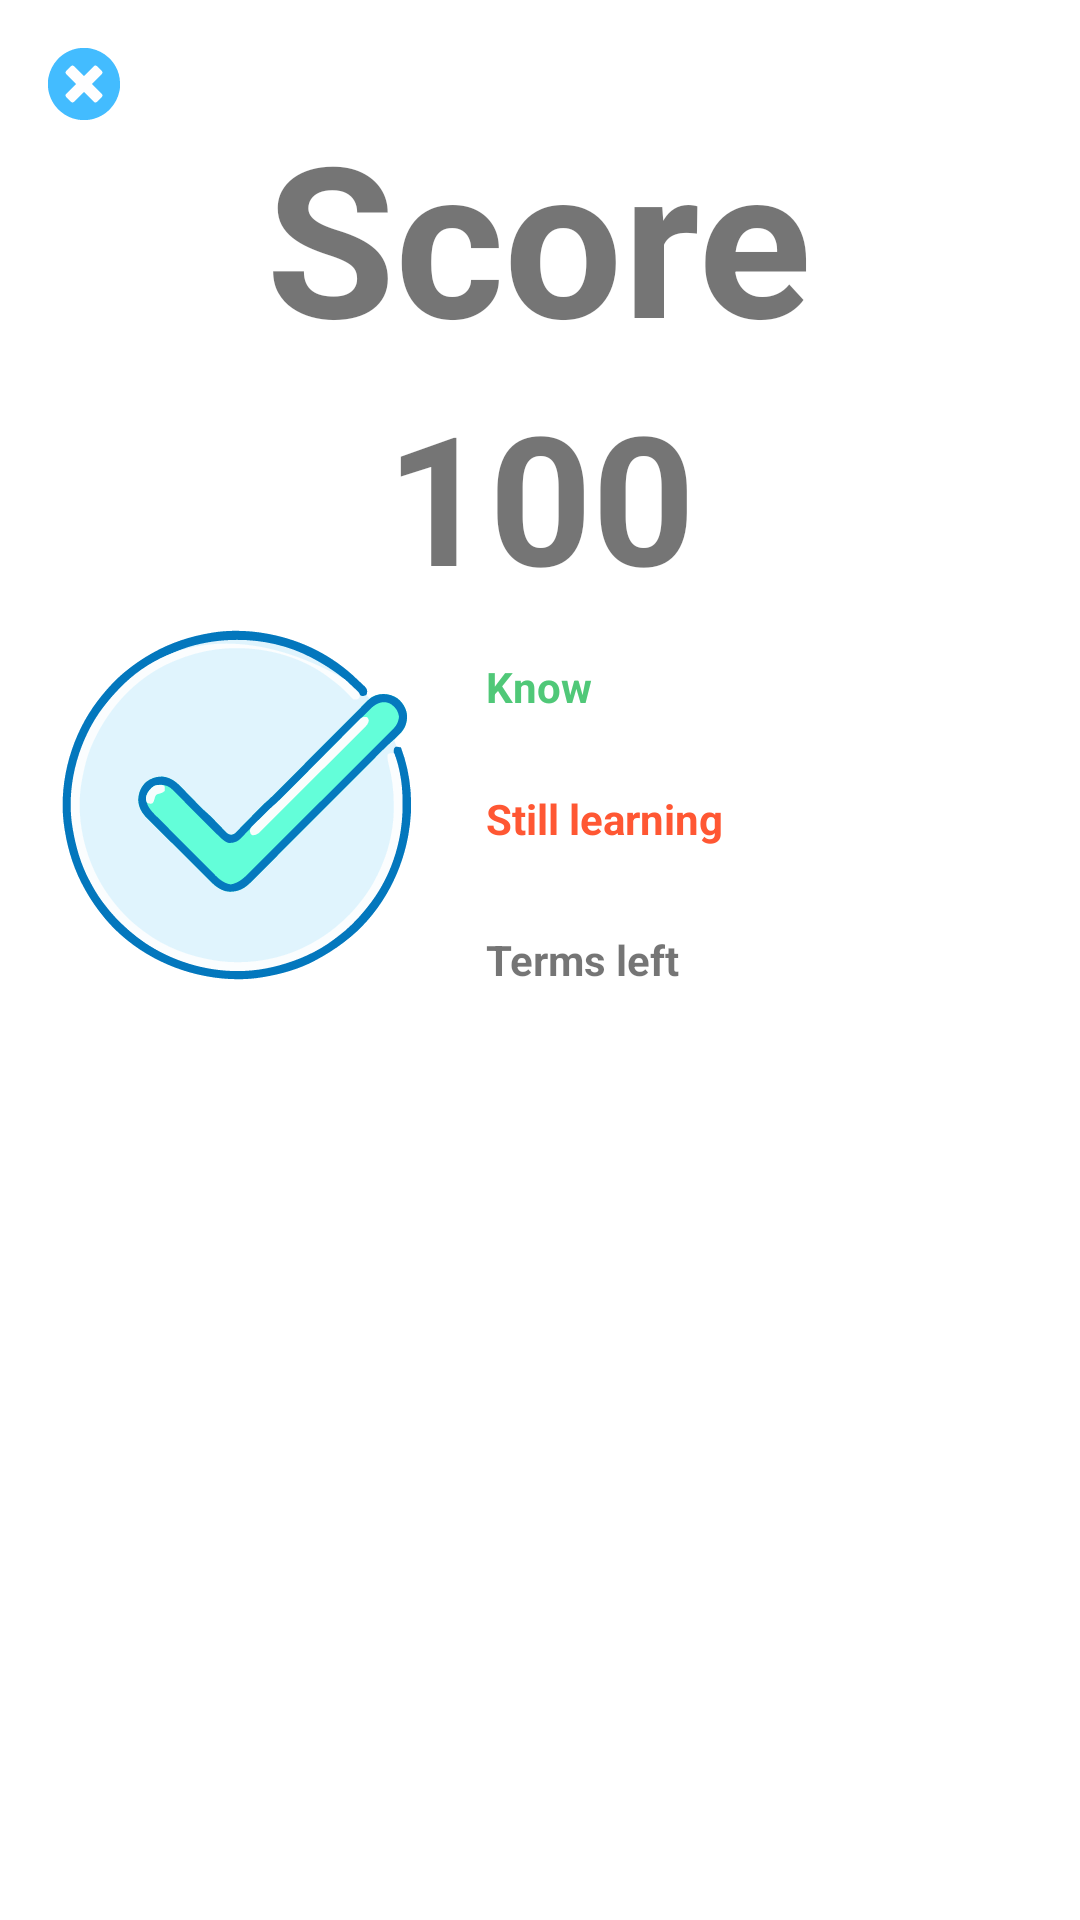

Icons on this 1080 x 1920 Android screen, each with the point to tap as [x,y]:
close: [84,84]
mark: [236,805]
